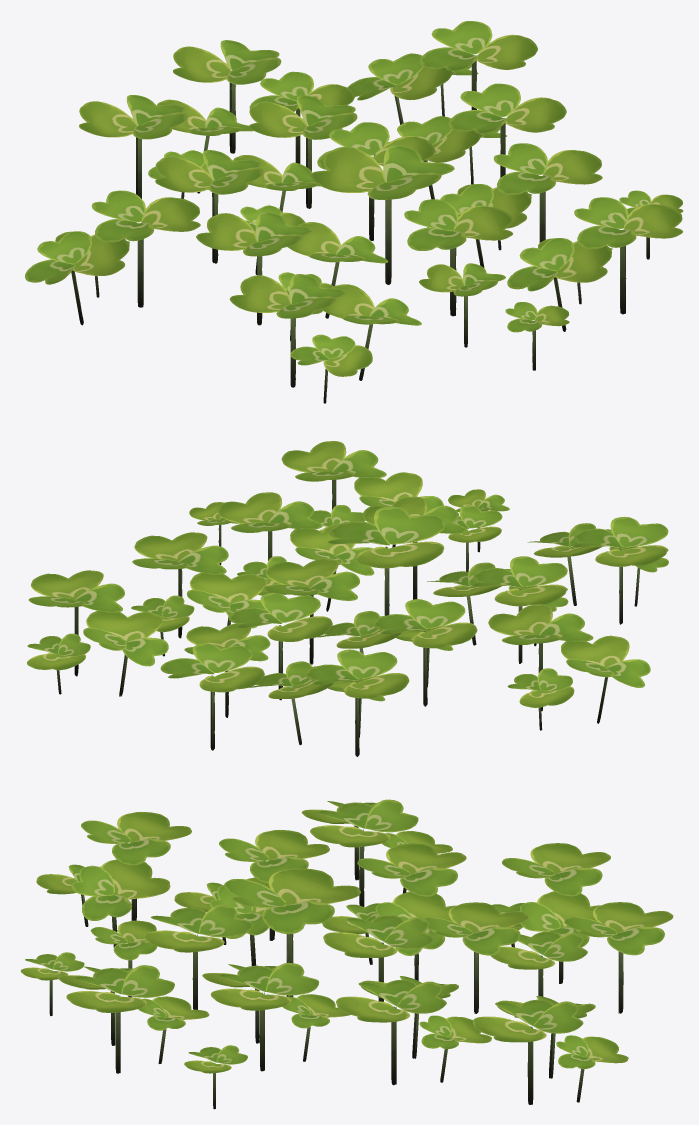
File: MESH_floorplant_clover.fbx
3 renders of one model, top to bottom at view 1: azimuth 30°, elevation 25°; view 2: azimuth 150°, elevation 25°; view 3: azimuth 270°, elevation 25°, orthographic. The views are drawn at different scales.
Visible parts, largest first — view 1: Plane.069; view 2: Plane.069; view 3: Plane.069.
Boxes of the visible parts, left/top/right/bottom form: Plane.069: left=25, top=21, right=683, bottom=403; Plane.069: left=27, top=441, right=668, bottom=756; Plane.069: left=20, top=799, right=673, bottom=1109.
Size of the model in its own units: 29.26 by 5.91 by 29.09.
